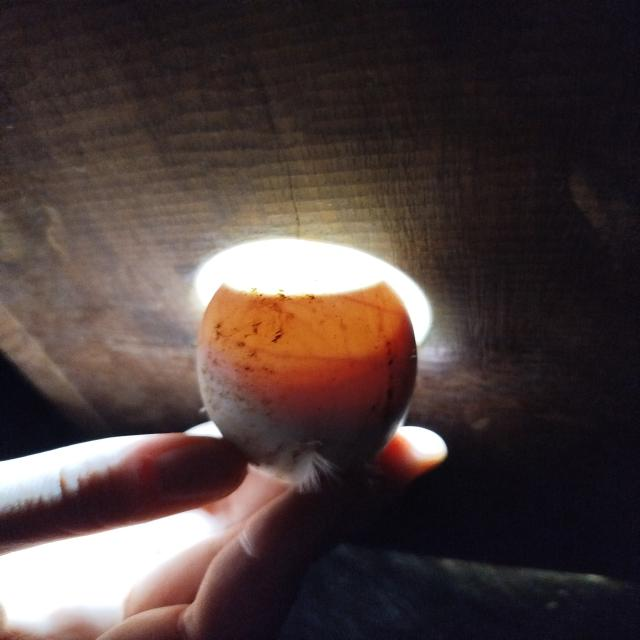Embriao: (196, 340, 418, 477)
